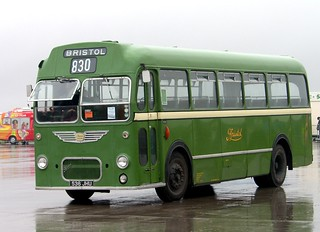bus: (31, 40, 313, 202)
